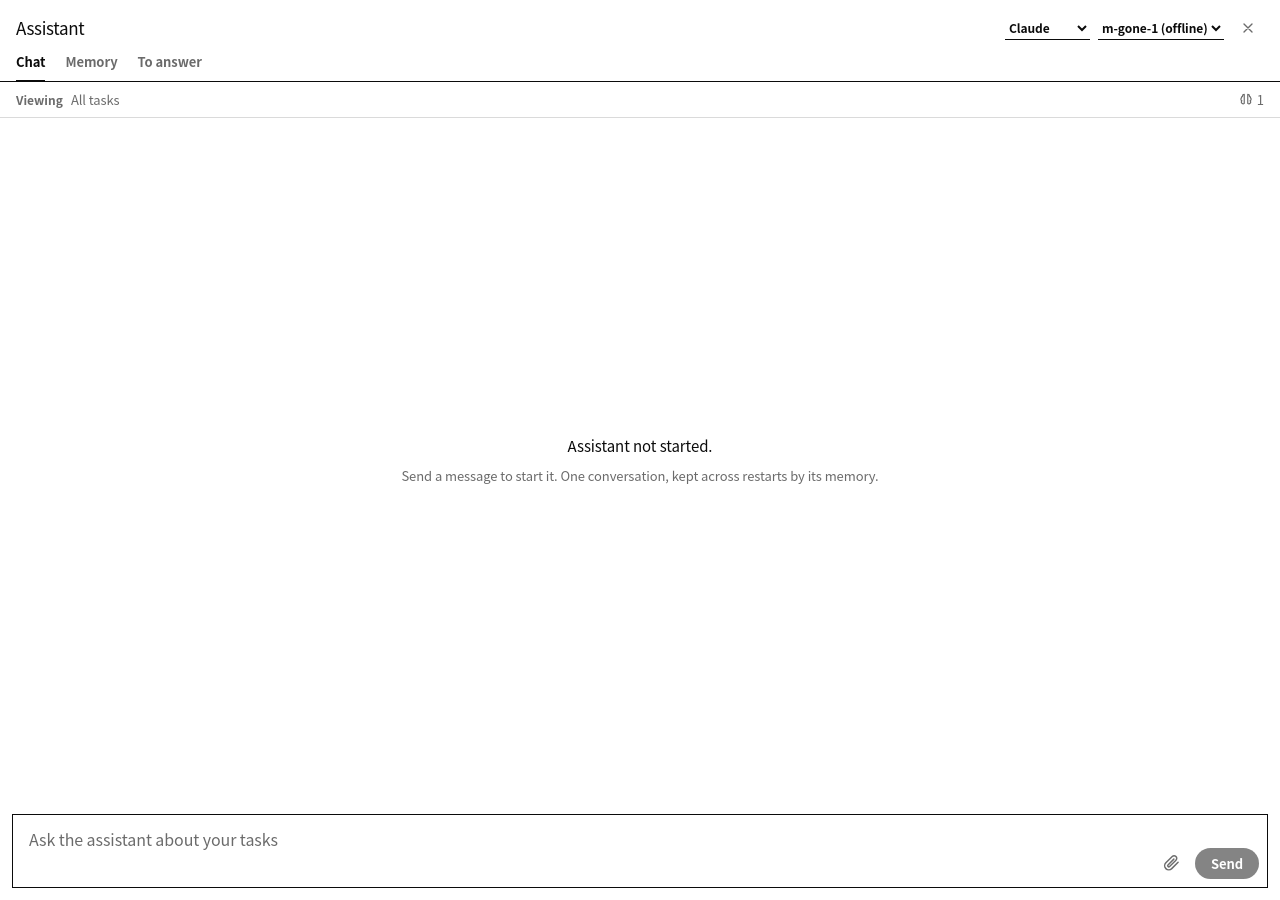
AssistantPanel › keeps an offline pinned machine in view, and says why a switch failed
Select "37-2" in the dropdown named "Machine the assistant runs on" at (1161, 28), box top-left (1098, 16), bottom-right (1224, 40)
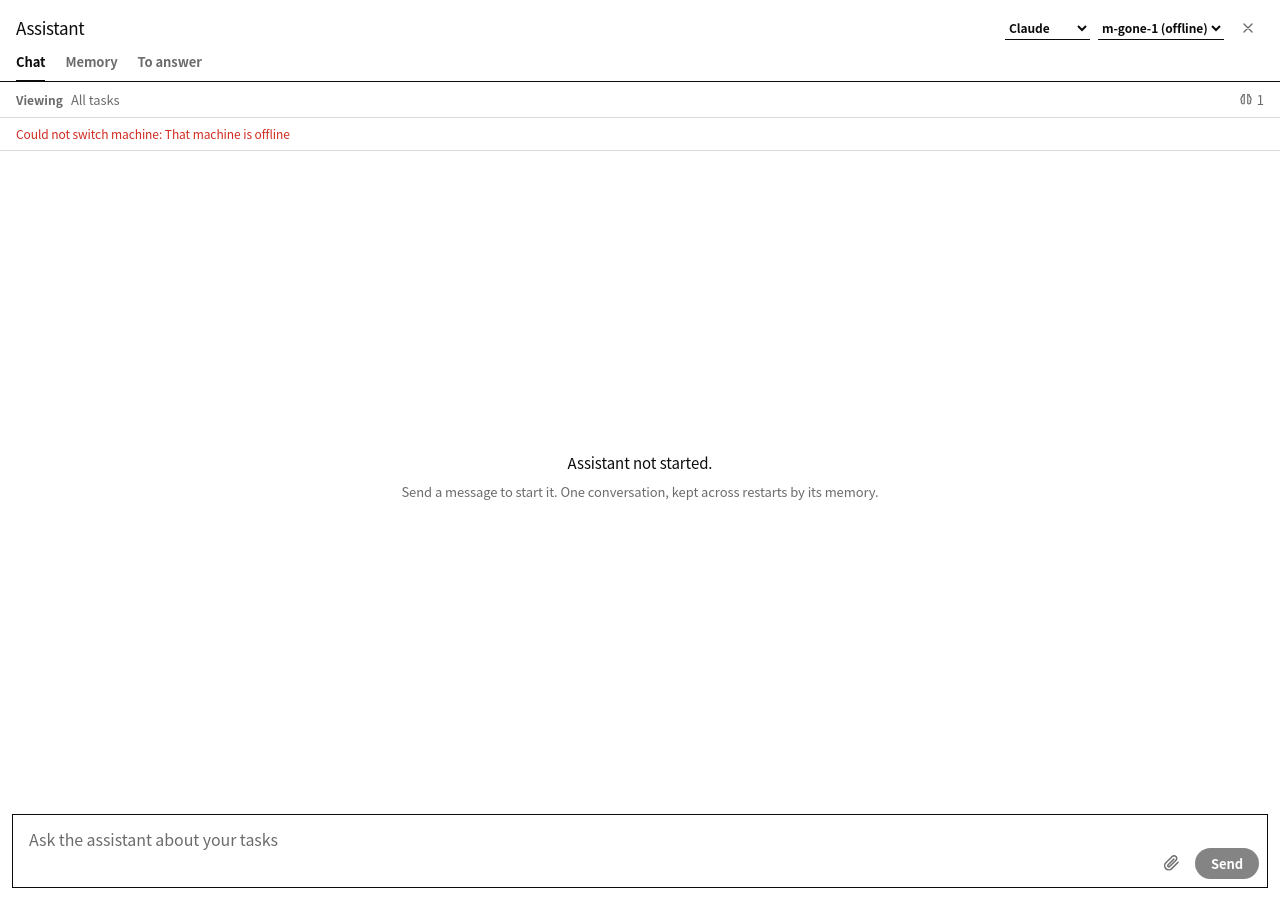
Check: the message reads "Could not switch machine: That machine is offline", box top-left (16, 125), bottom-right (290, 142)
